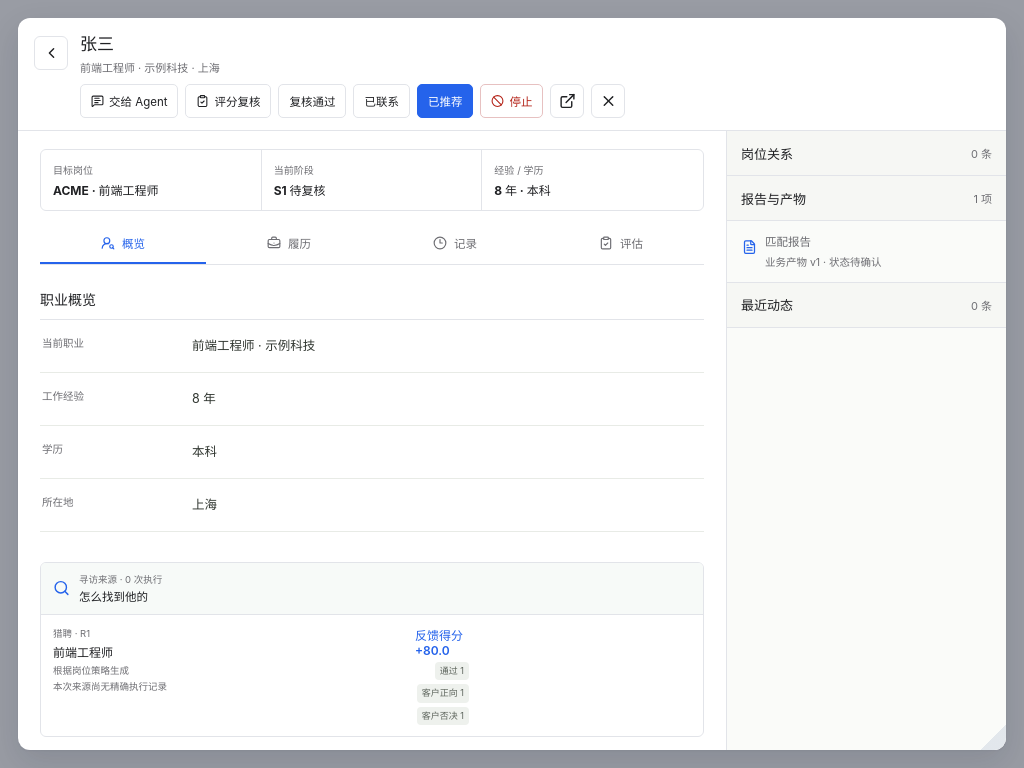
Test: 顾问确认推荐（recommendation-decision） › 推荐理由必填：为空时确认禁用，填写后可用
Step 1. Click the button "已推荐" → {"x": 445, "y": 101}, box [417,84,474,118]
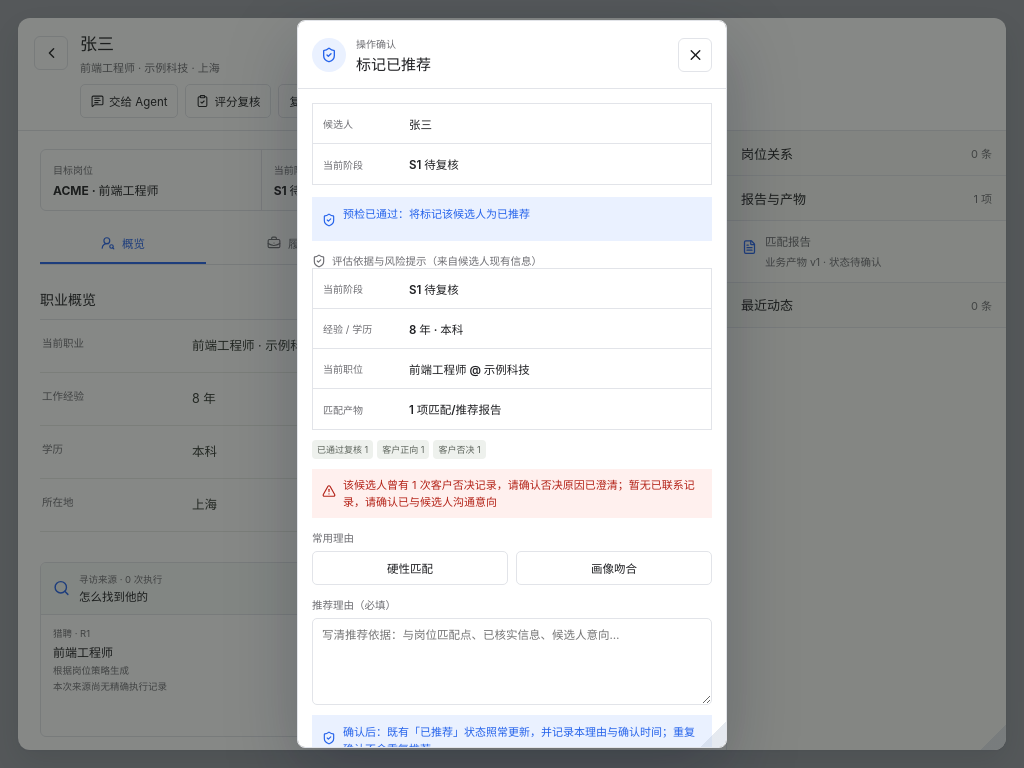
Step 2. Type "硬性要求匹配，候选人意向已确认" into the text box labelled "推荐理由（必填）" → {"x": 512, "y": 662}, box [312,618,712,705]
(page scrolled)
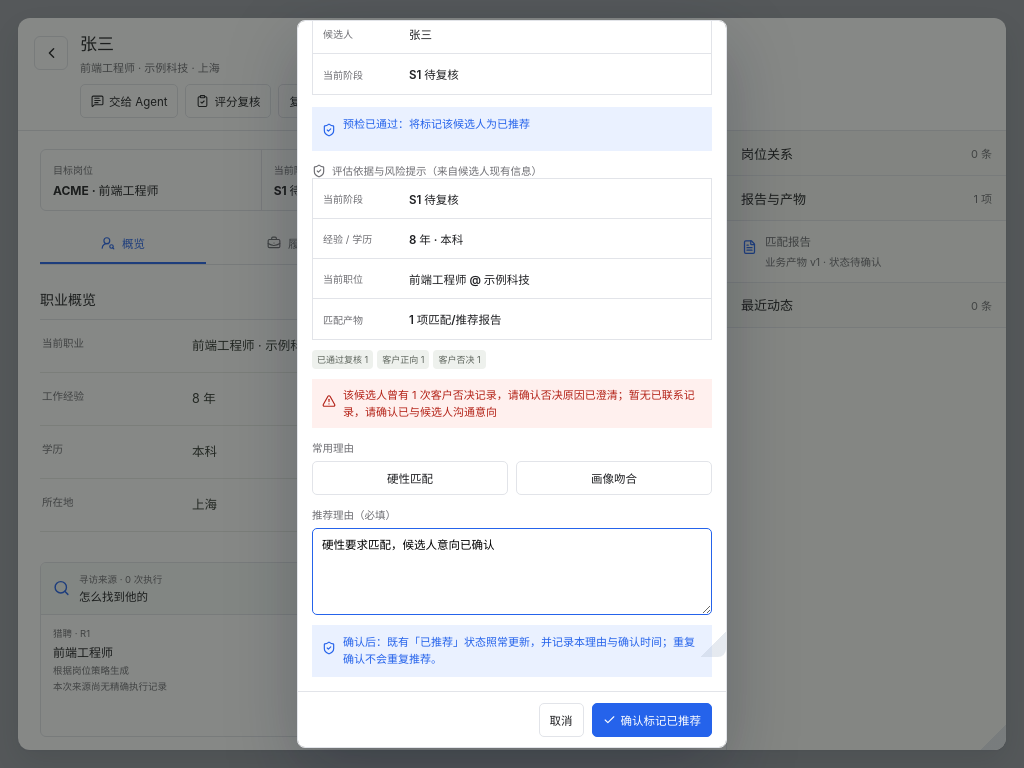
Result: the button "确认标记已推荐" is enabled at [592,703,712,737]
